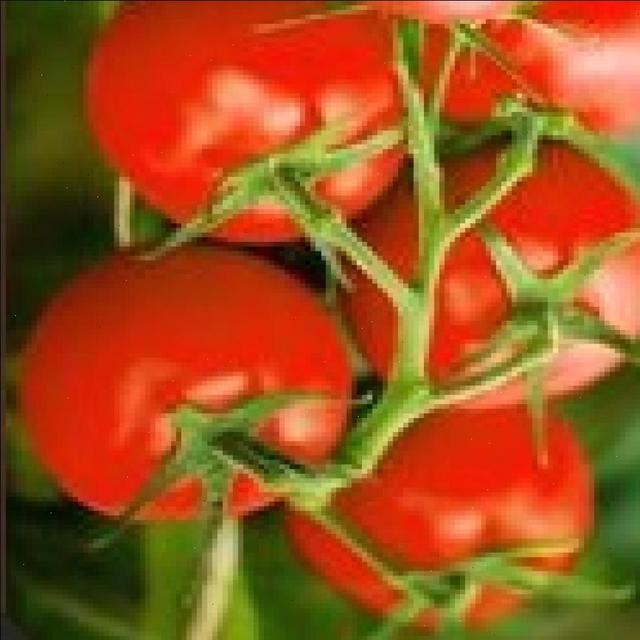Healthy Fruit: (131, 50, 342, 344)
